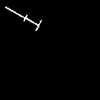double_crochet: (5, 7, 40, 29)
